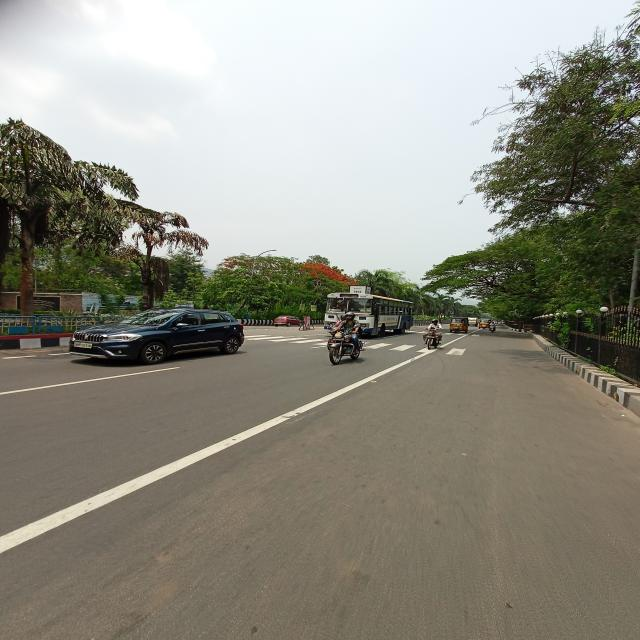bike: (323, 329, 382, 366), (424, 328, 445, 352)
bus: (317, 289, 419, 335)
car: (61, 306, 255, 364)
